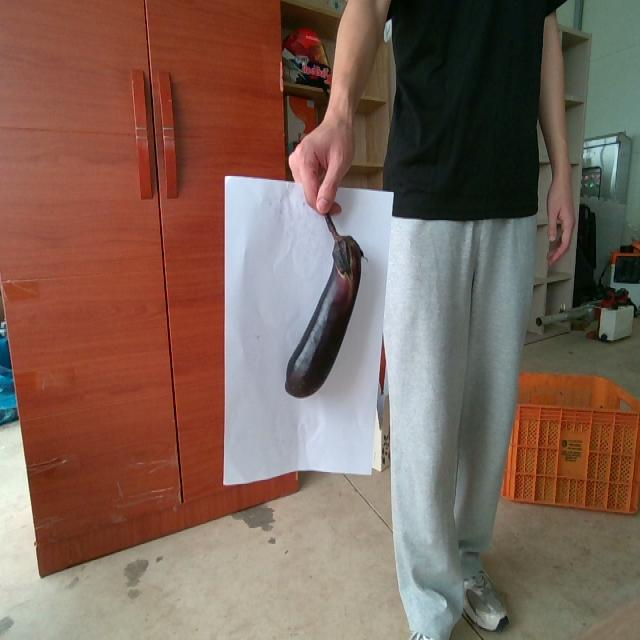Egg plant: (285, 215, 363, 396)
